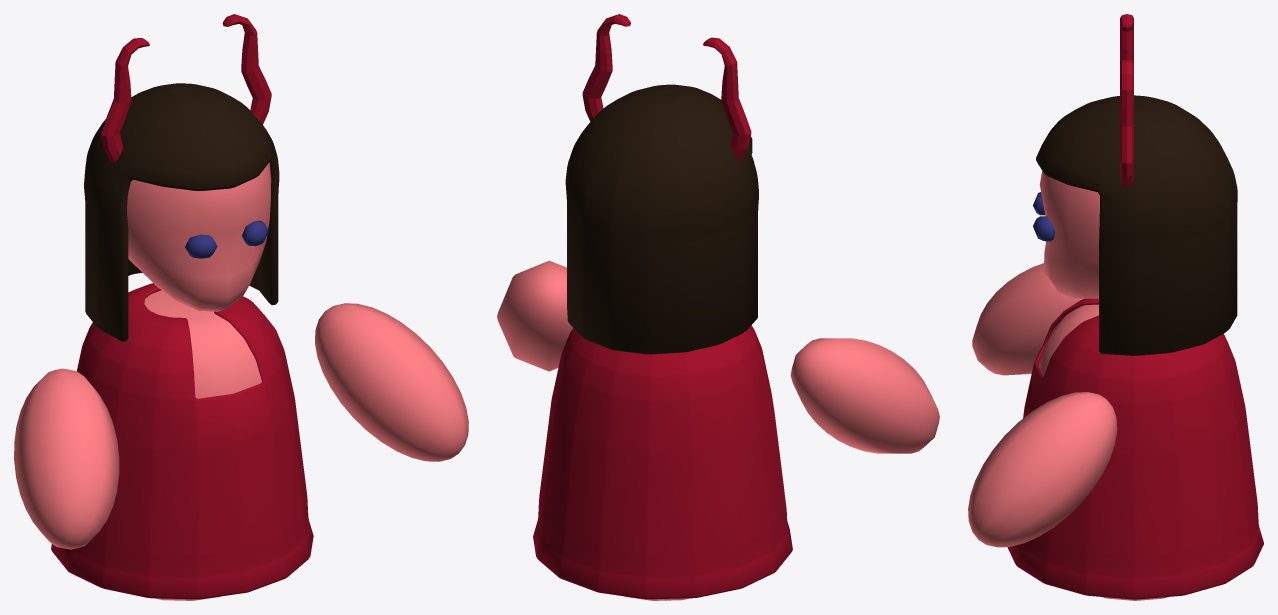
The model's file is pedro_rip_off_1_hell.fbx.
3 renders of one model, left to right at view 1: azimuth 30°, elevation 25°; view 2: azimuth 150°, elevation 25°; view 3: azimuth 270°, elevation 25°, orthographic. The views are drawn at different scales.
Parts seen in each view (by area): view 1: dress, Woman, hair, Cube, eyes; view 2: dress, hair, Woman, Cube; view 3: dress, hair, Woman, Cube, eyes.
Part boxes in pixels (left/top/right/bottom): dress: left=51, top=283, right=313, bottom=599; Woman: left=14, top=162, right=468, bottom=600; hair: left=84, top=83, right=279, bottom=341; Cube: left=101, top=14, right=271, bottom=162; eyes: left=185, top=220, right=268, bottom=258; dress: left=533, top=325, right=792, bottom=599; hair: left=565, top=84, right=758, bottom=354; Woman: left=497, top=260, right=939, bottom=600; Cube: left=582, top=14, right=751, bottom=160; dress: left=1007, top=298, right=1263, bottom=599; hair: left=1036, top=95, right=1237, bottom=355; Woman: left=968, top=171, right=1168, bottom=600; Cube: left=1120, top=14, right=1133, bottom=187; eyes: left=1033, top=192, right=1055, bottom=241.
Size of the model in its own units: 405 by 500 by 251.
